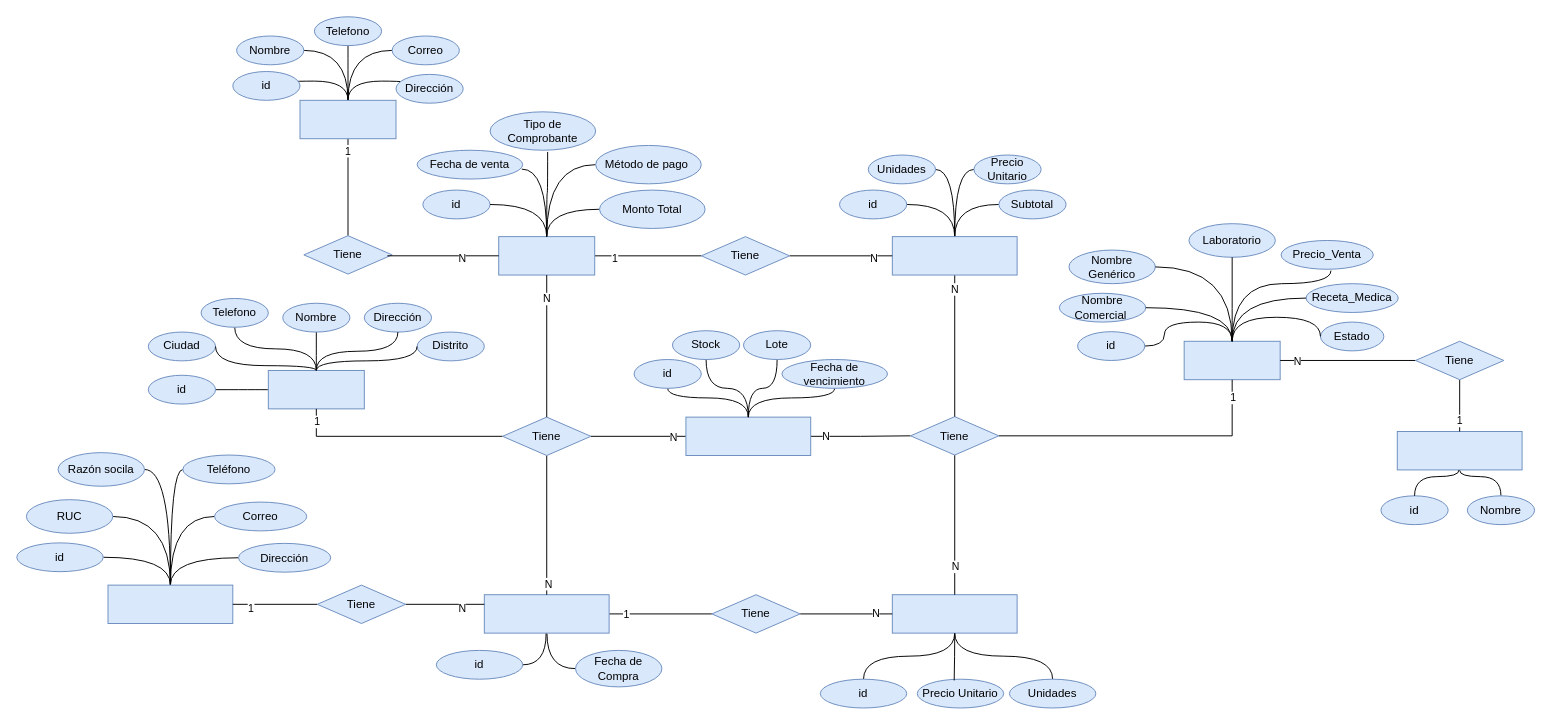
The diagram is 1551 pixels wide and 725 high, and some of its shapes have lost their labels. Here are the shapes that lost their labels. From the top down, the centre of each, then its label:
[347,119]: Cliente
[546,255]: Venta
[954,255]: Detalle de Venta
[1231,360]: Producto
[315,389]: Sede
[748,436]: Inventario
[1459,450]: Categoria_Producto
[170,604]: Proveedor
[546,613]: Compras
[954,613]: Detalle de Compra
